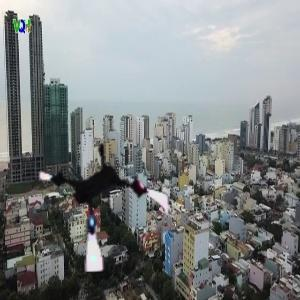drone: (29, 134, 175, 280)
